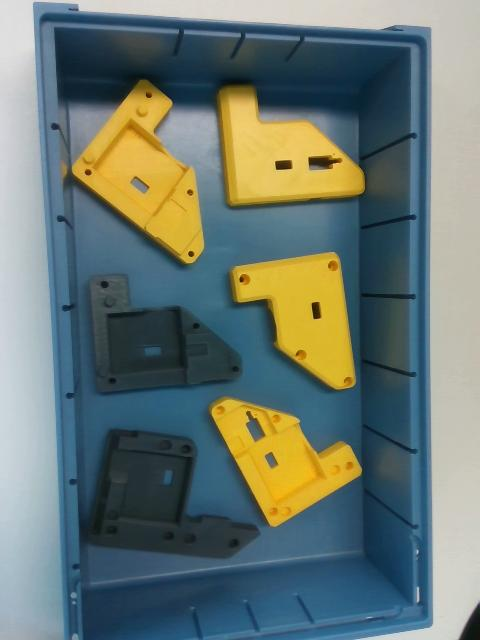1Agray: (85, 275, 244, 396)
1Ayellow: (61, 72, 210, 270), (232, 247, 363, 391)
1Byellow: (209, 392, 362, 531), (214, 83, 364, 209)
3Bgray: (85, 426, 265, 562)
